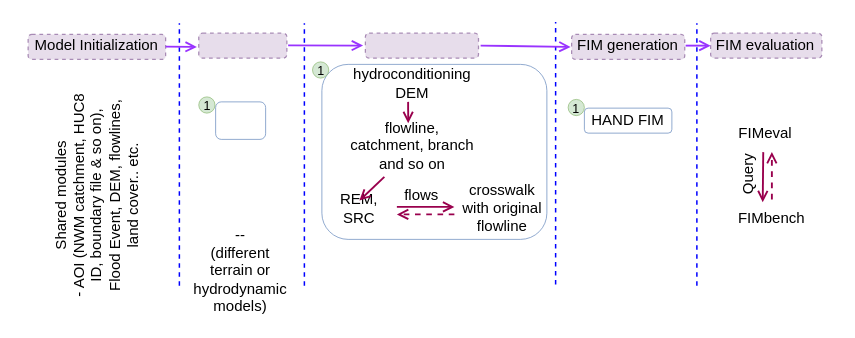
Some shapes in this 855 by 338 pixel diagram are drawn without their labels. Here are the shapes that lost their labels. From the top down, the centre of each, then its label:
(x=242, y=45): FIM models
(x=421, y=45): Preprocessor
(x=240, y=120): HAND based
